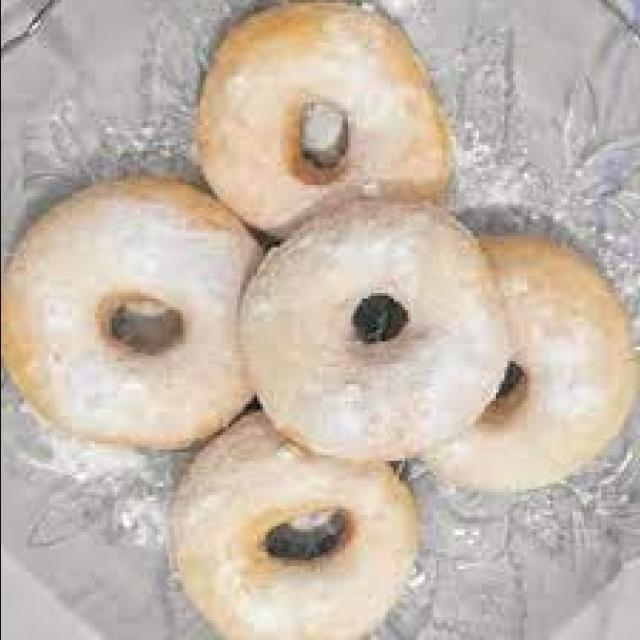donat: (0, 174, 267, 449), (233, 199, 506, 464), (191, 3, 452, 242), (168, 398, 418, 640), (421, 230, 631, 495)
